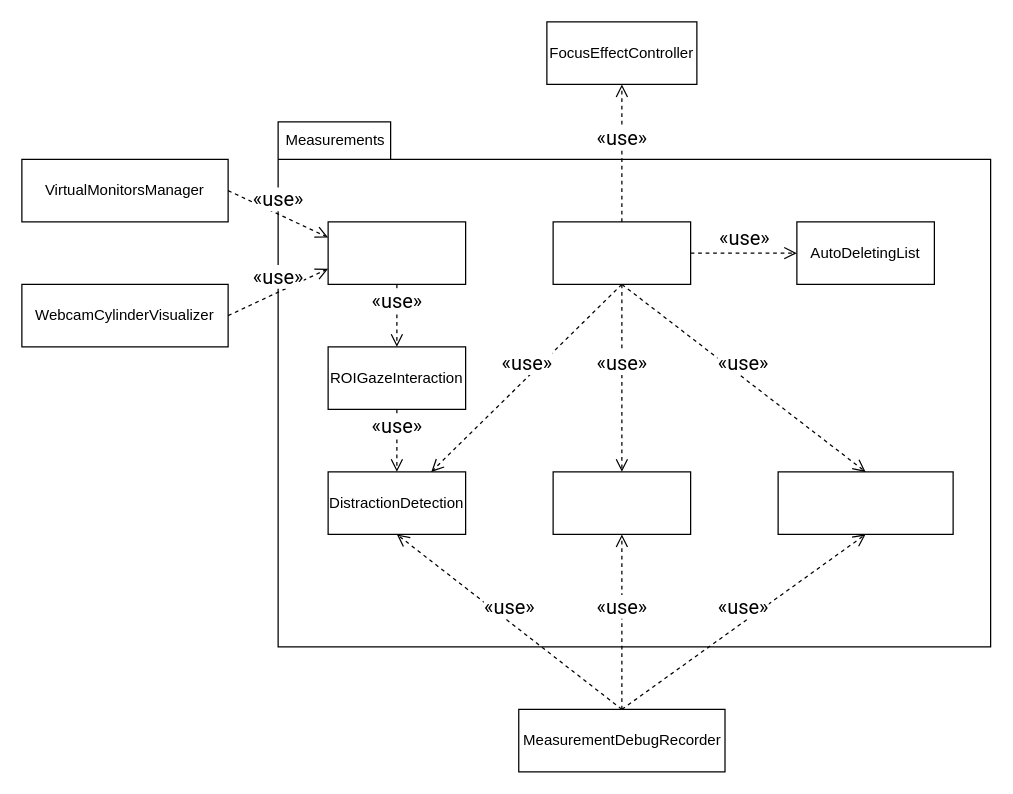
The diagram is 1013 pixels wide and 794 high, and some of its shapes have lost their labels. Each missing label, with the box of its shape:
DistractionManager: (552, 221, 691, 284)
MicrosaccadeDetection: (777, 471, 953, 534)
PupilDilation: (552, 471, 691, 534)
ROISelfRegistration: (327, 221, 466, 284)
